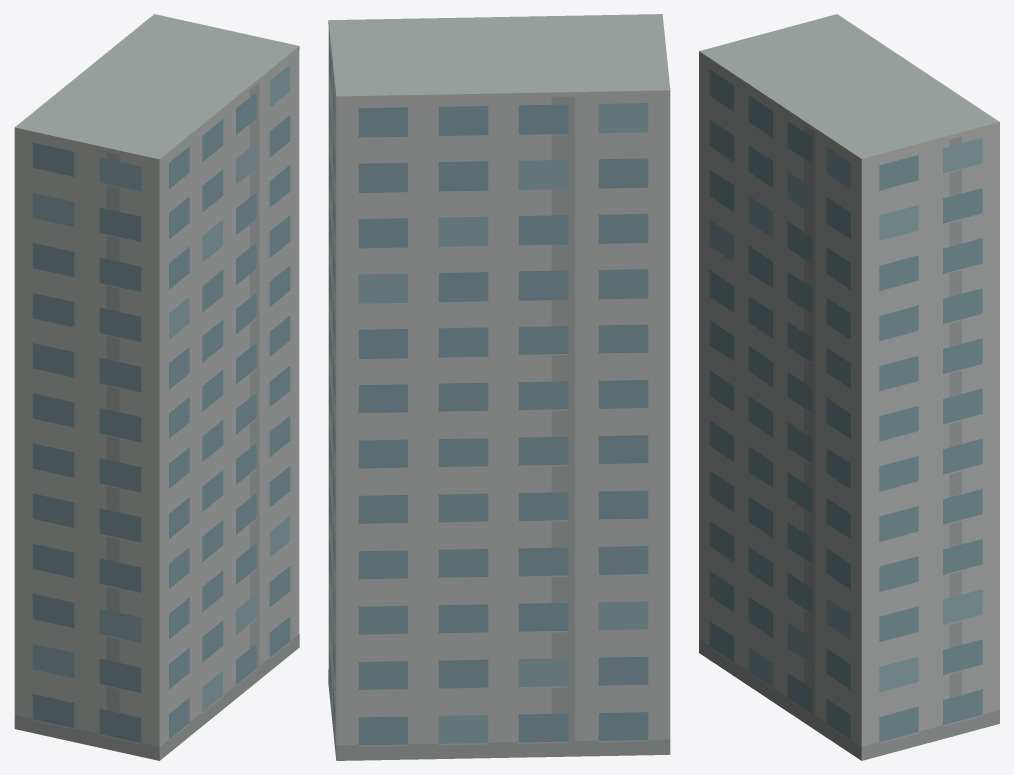
The model's file is residential-4601ddcd-bfa8-4af7-a4ed-2ead8c7c02c5.glb.
The picture shows the model from 3 angles, left to right: view 1: azimuth 30°, elevation 25°; view 2: azimuth 150°, elevation 25°; view 3: azimuth 270°, elevation 25°; orthographic projection. The views are drawn at different scales.
Parts seen in each view (by area): view 1: residential-4601ddcd-bfa8-4af7-a4ed-2ead8c7c02c5.tmp; view 2: residential-4601ddcd-bfa8-4af7-a4ed-2ead8c7c02c5.tmp; view 3: residential-4601ddcd-bfa8-4af7-a4ed-2ead8c7c02c5.tmp.
Boxes of the visible parts, box(x1,y1,x2,y2) form: residential-4601ddcd-bfa8-4af7-a4ed-2ead8c7c02c5.tmp: box(14, 14, 299, 760); residential-4601ddcd-bfa8-4af7-a4ed-2ead8c7c02c5.tmp: box(328, 14, 670, 760); residential-4601ddcd-bfa8-4af7-a4ed-2ead8c7c02c5.tmp: box(699, 14, 999, 760).
Bounding box in the file's own units: 19.14 × 37 × 16.76.
